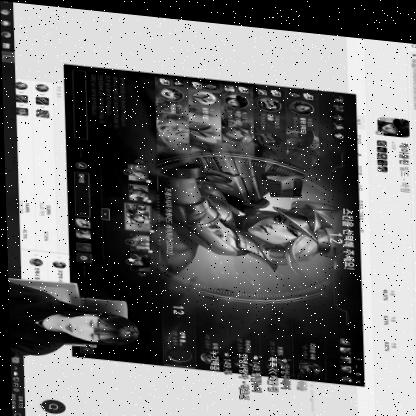streamer: (6, 278, 137, 369)
